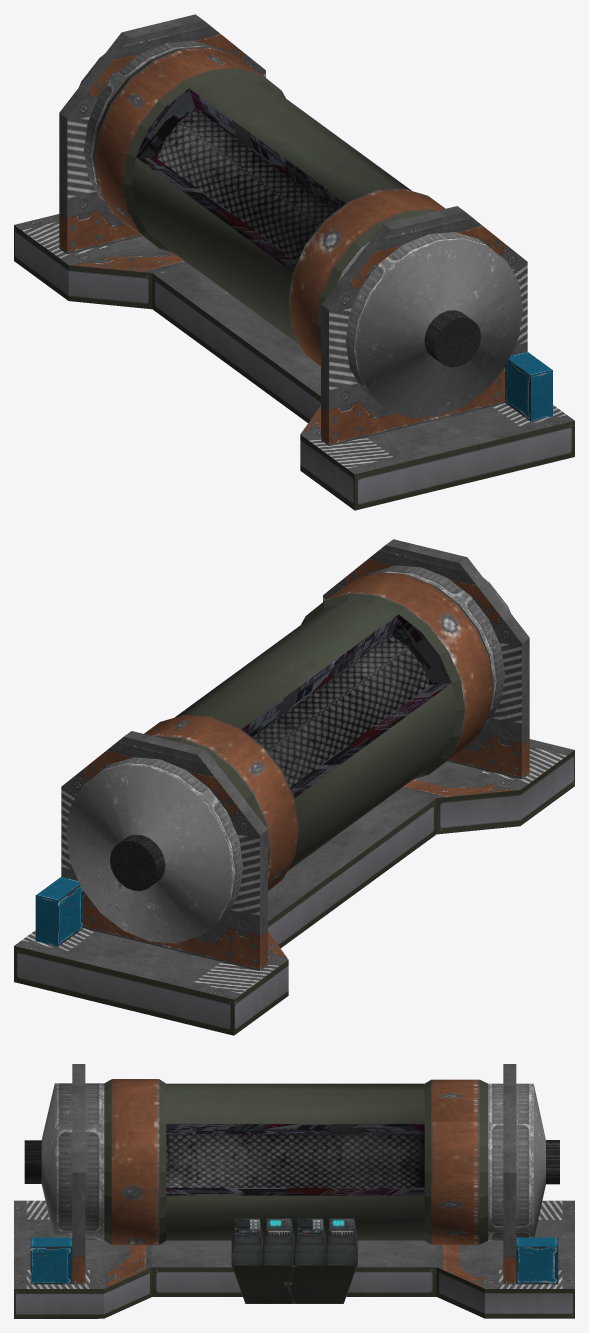
Rendered from Generator_01.fbx.
3 views of the same model, one above another, from view 1: azimuth 30°, elevation 25°; view 2: azimuth 150°, elevation 25°; view 3: azimuth 270°, elevation 25° (orthographic). The views are drawn at different scales.
Visible parts, largest first — view 1: Generator_01; view 2: Generator_01; view 3: Generator_01.
Boxes of the visible parts, x1,y1,x2,y2 form: Generator_01: [14, 14, 574, 510]; Generator_01: [14, 539, 574, 1035]; Generator_01: [14, 1064, 574, 1318].
Bounding box in the file's own units: 150 × 154 × 401.
